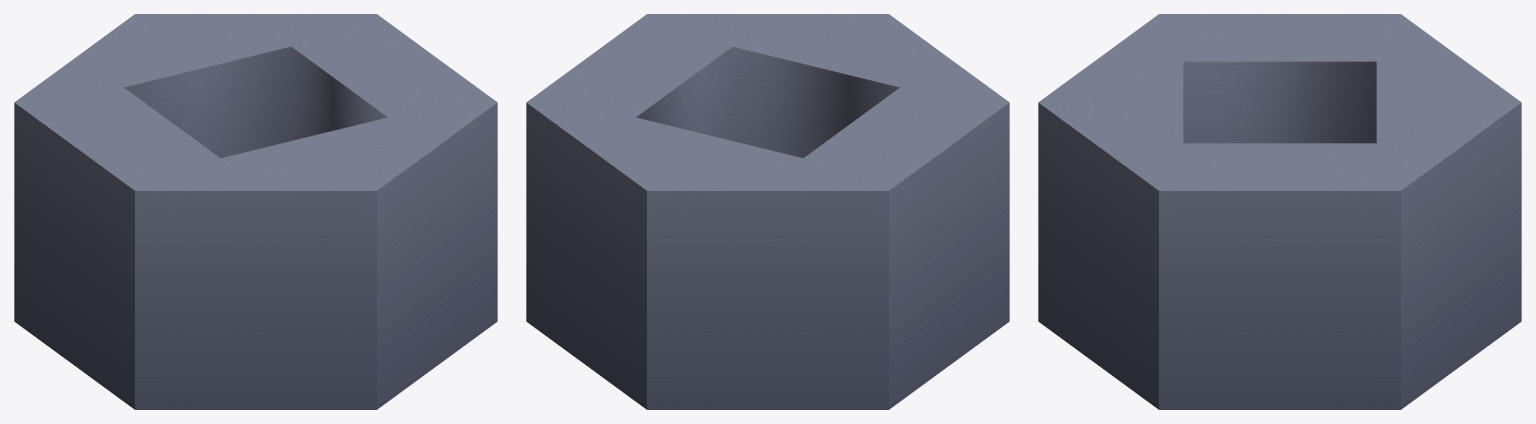
The model's file is debris-nut.glb.
3 renders of one model, left to right at view 1: azimuth 30°, elevation 25°; view 2: azimuth 150°, elevation 25°; view 3: azimuth 270°, elevation 25°, orthographic.
Parts seen in each view (by area): view 1: debris-nut; view 2: debris-nut; view 3: debris-nut.
Part boxes in pixels (box(x1,y1,x2,y2)): debris-nut: box(14, 14, 497, 409); debris-nut: box(526, 14, 1009, 409); debris-nut: box(1038, 14, 1521, 409).
Bounding box in the file's own units: 0.1732 × 0.1 × 0.2.
1 material, 1 textured.
